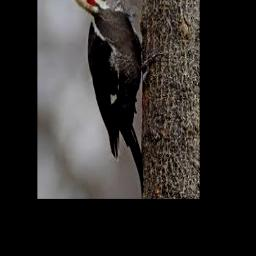Woodpecker: (63, 0, 163, 197)
